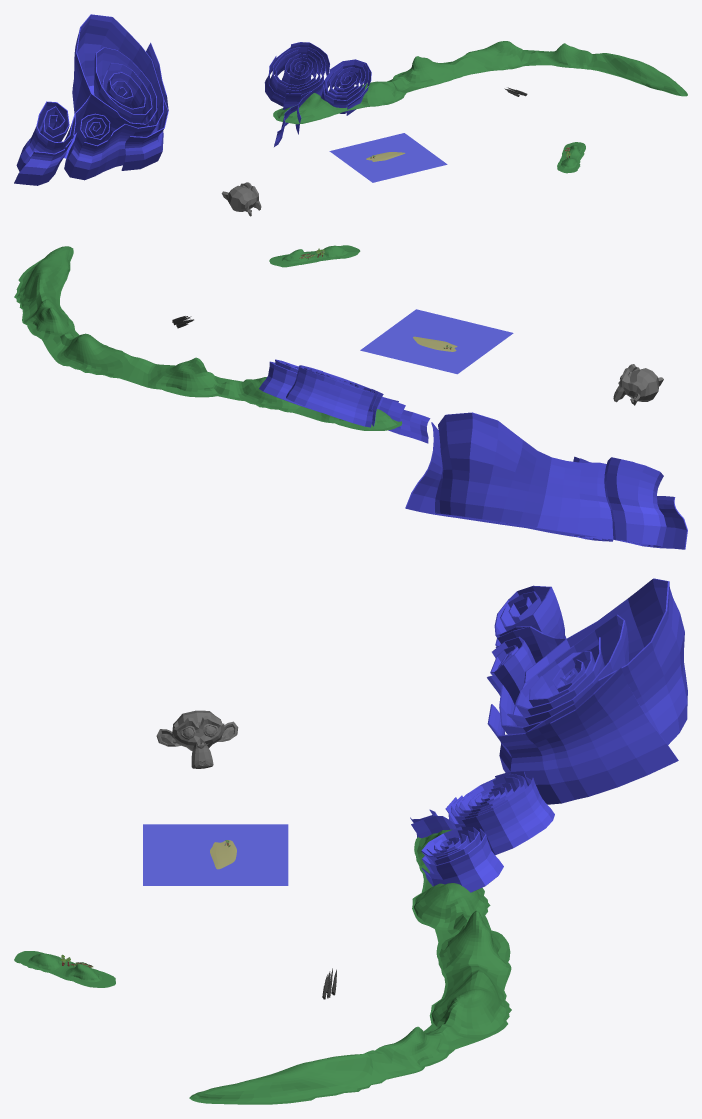
File: dreamscene.glb
3 renders of one model, top to bottom at view 1: azimuth 30°, elevation 25°; view 2: azimuth 150°, elevation 25°; view 3: azimuth 270°, elevation 25°, orthographic. The views are drawn at different scales.
Parts seen in each view (by area): view 1: Plane.007, Cube.002, Plane.006, Plane, Plane.005, Suzanne, Cube.003; view 2: Plane.007, Cube.002, Plane, Plane.006, Suzanne, Plane.005, Cube.003; view 3: Plane.007, Cube.002, Plane, Plane.006, Plane.005, Suzanne, Cube.003.
Boxes of the visible parts, x1,y1,x2,y2 form: Plane.007: (14,14,168,185); Cube.002: (273,41,687,124); Plane.006: (264,42,329,146); Plane: (329,133,447,182); Plane.005: (321,59,371,115); Suzanne: (221,182,261,216); Cube.003: (557,142,585,173); Plane.007: (405,412,687,549); Cube.002: (14,246,402,430); Plane: (360,309,513,374); Plane.006: (286,365,430,443); Suzanne: (613,364,663,405); Plane.005: (259,359,321,412); Cube.003: (269,245,360,267); Plane.007: (487,578,687,804); Cube.002: (189,829,511,1104); Plane: (143,824,288,885); Plane.006: (410,771,554,855); Plane.005: (421,826,503,892); Suzanne: (156,710,238,768); Cube.003: (14,951,115,987).
Bounding box in the file's own units: 1771 × 358 × 1063.
